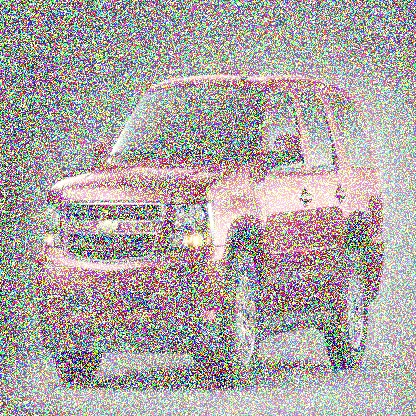Vehicle: (34, 66, 388, 388)
